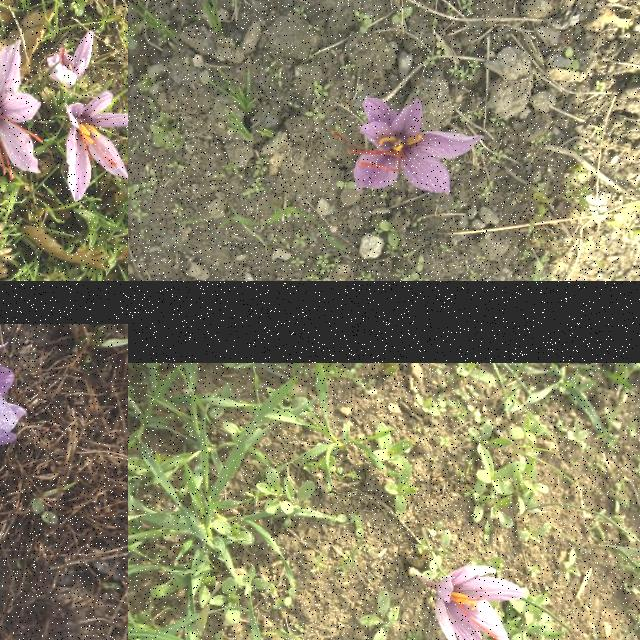flower: (331, 97, 484, 197), (66, 93, 128, 203), (435, 566, 527, 640), (0, 39, 44, 180), (0, 344, 28, 447), (47, 32, 93, 88)
